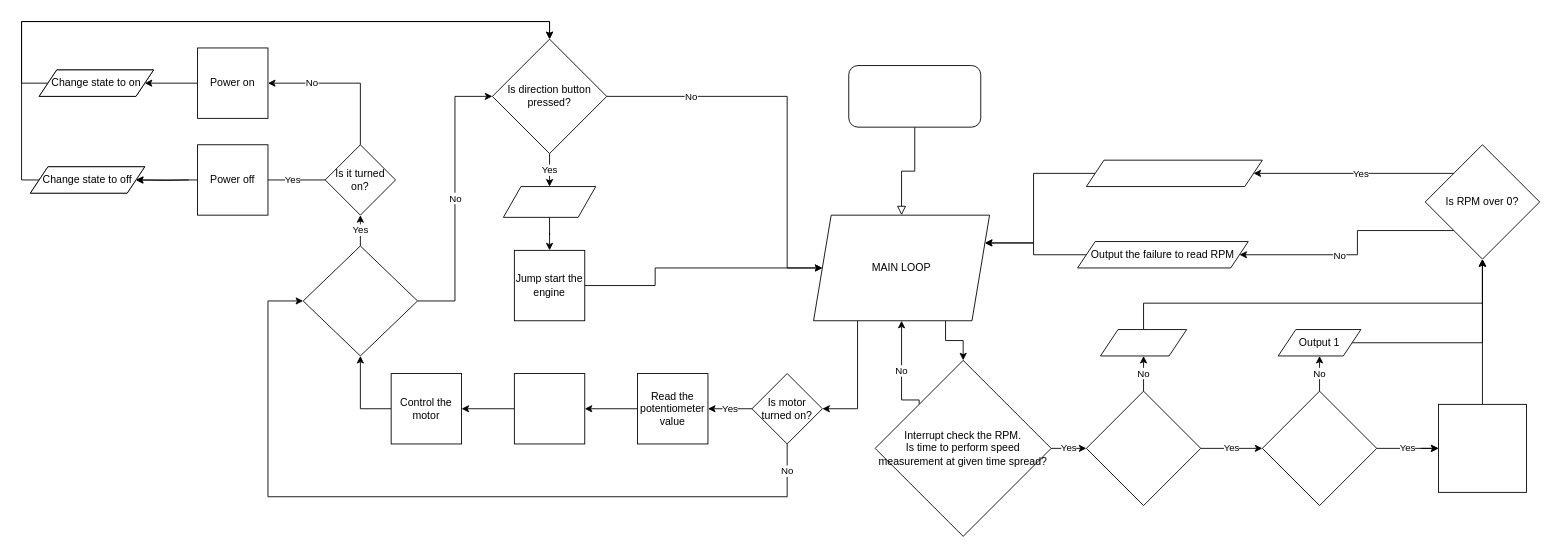
The diagram is 1556 pixels wide and 552 high, and some of its shapes have lost their labels. The shapes that lost their labels are listed below. From the top down, each one's box as (x1, y1, x2, y2) in pixels, then its label:
(848, 65, 981, 127): Setup the values
(1085, 159, 1262, 187): Output the RPM
(502, 186, 596, 217): Change the direction
(302, 245, 418, 356): Is power button pressed?
(1100, 329, 1187, 356): Output -1
(513, 373, 585, 444): Map the value to base 8_uint value
(1085, 390, 1201, 506): Has been the read succesful?
(1261, 390, 1377, 506): Is interval gotten zero?
(1438, 403, 1526, 492): Do the revolution ship calculation
